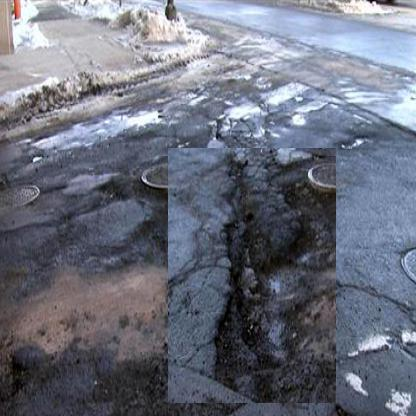damage: (167, 148, 336, 404)
